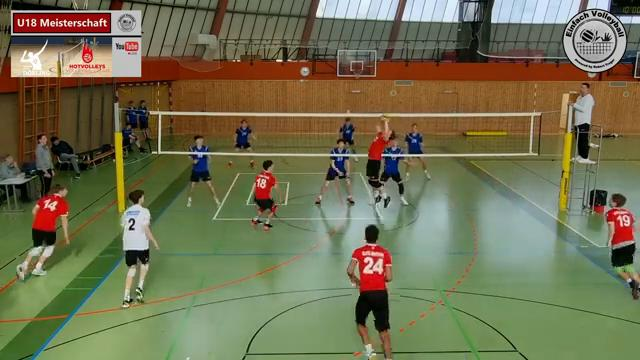Player: (347, 225, 392, 359), (16, 185, 68, 279), (121, 190, 158, 307), (606, 193, 639, 299), (315, 139, 354, 204), (187, 135, 219, 206), (380, 134, 407, 207), (252, 160, 276, 230), (405, 123, 429, 179), (234, 119, 255, 151), (354, 157, 357, 161)
Set: (363, 106, 393, 211)
ball: (376, 109, 391, 124)
